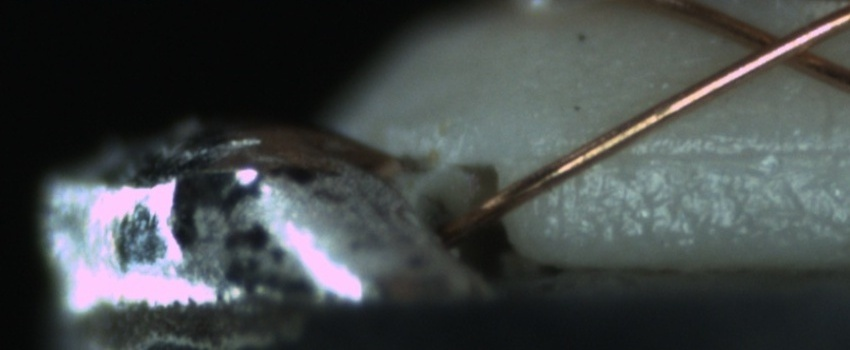CL: (728, 15, 832, 77)
DL: (604, 121, 848, 184)
